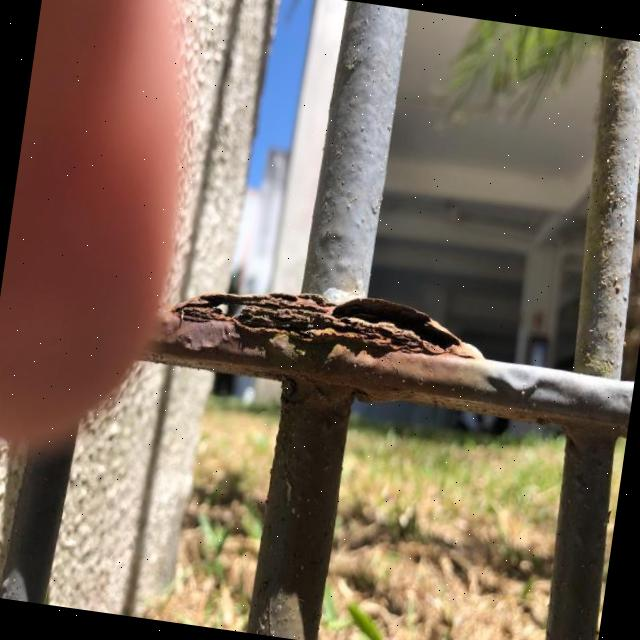Corrosion: (106, 264, 496, 640), (164, 267, 489, 375)
